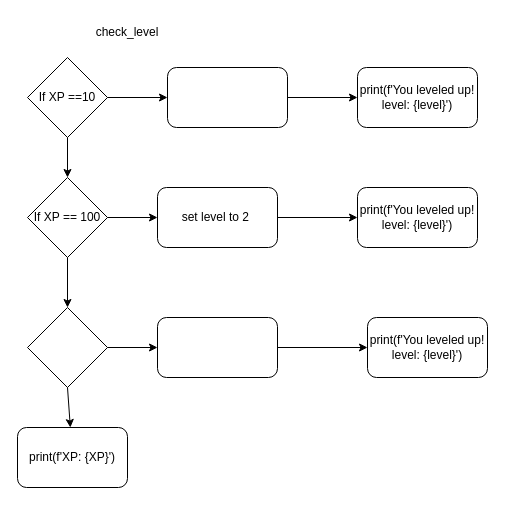
Some shapes in this 505 by 505 pixel diagram are drawn without their labels. The centre of each missing label's shape, as x and y in pixels:
If XP ==1000: the point at 67,347
set level to 1: the point at 227,97
set level to 3: the point at 217,347
